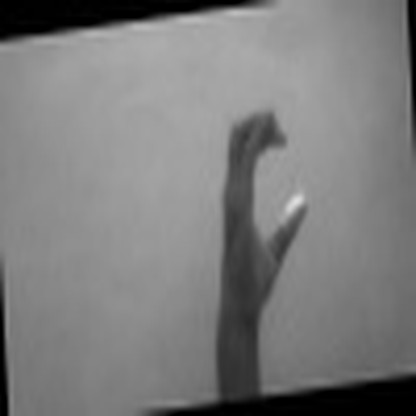c: (213, 102, 315, 300)
